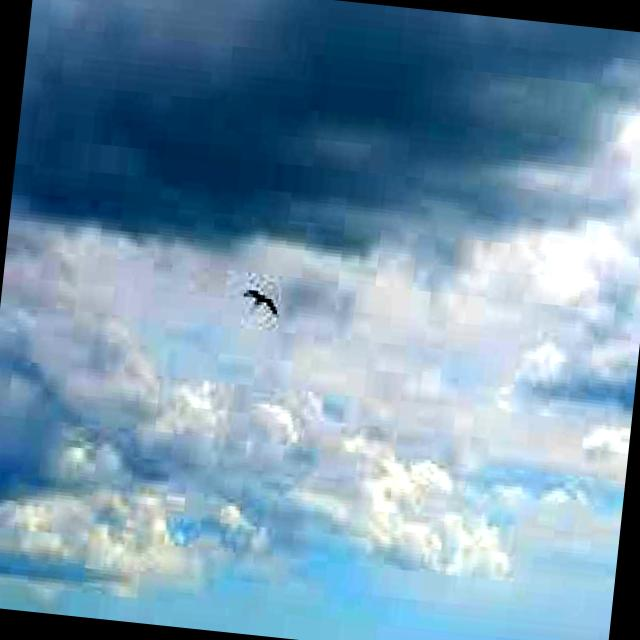bird: (237, 278, 284, 322)
